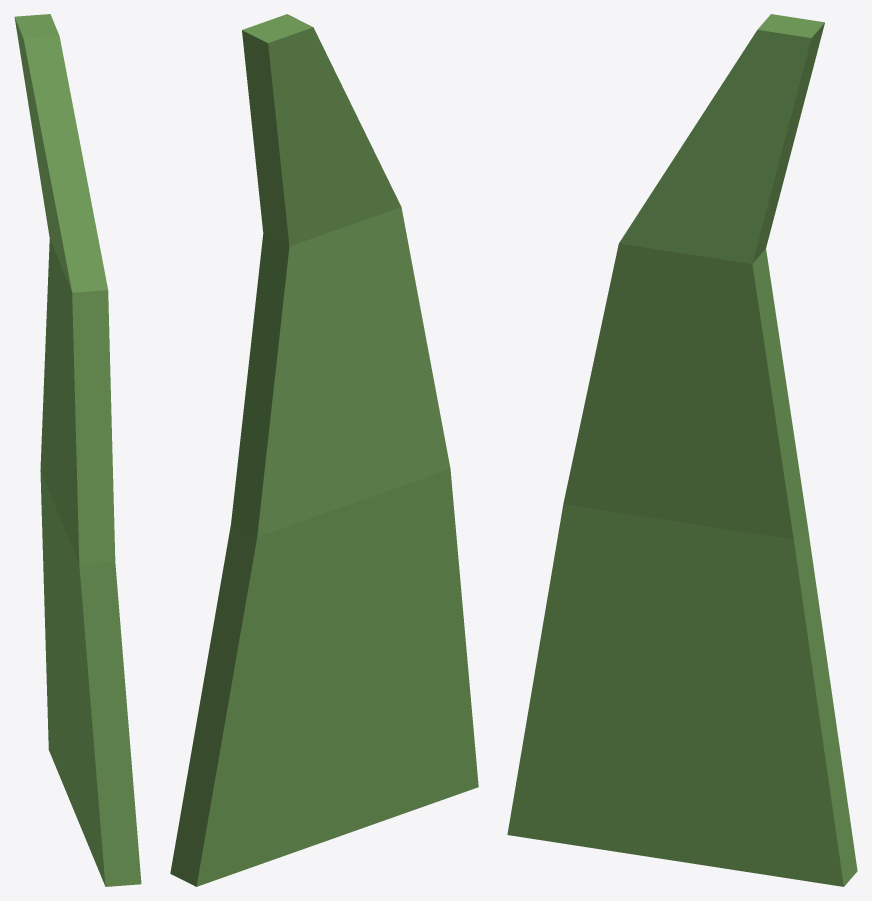
Rendered from Grass_2.fbx.
The picture shows the model from 3 angles, left to right: view 1: azimuth 30°, elevation 25°; view 2: azimuth 150°, elevation 25°; view 3: azimuth 270°, elevation 25°; orthographic projection. The views are drawn at different scales.
Visible parts, largest first — view 1: Grass2_mesh; view 2: Grass2_mesh; view 3: Grass2_mesh.
Boxes of the visible parts, bbox=[...] form: Grass2_mesh: bbox=[14, 14, 141, 886]; Grass2_mesh: bbox=[170, 14, 478, 886]; Grass2_mesh: bbox=[507, 14, 857, 886].
Size of the model in its own units: 3.68 by 20.77 by 8.01.
